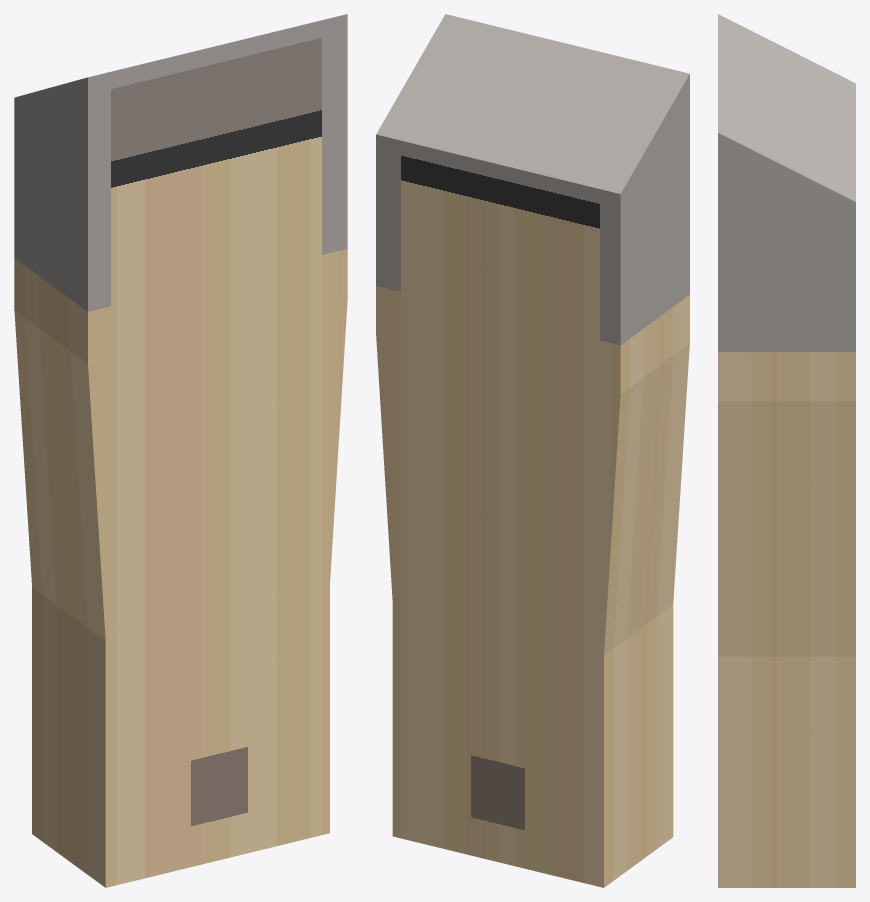
The model's file is 0006_Peeler.glb.
3 renders of one model, left to right at view 1: azimuth 30°, elevation 25°; view 2: azimuth 150°, elevation 25°; view 3: azimuth 270°, elevation 25°, orthographic. The views are drawn at different scales.
Parts seen in each view (by area): view 1: part_0; view 2: part_0; view 3: part_0.
Part boxes in pixels (x1,y1,x2,y2): part_0: [14, 14, 347, 887]; part_0: [376, 14, 689, 887]; part_0: [718, 14, 855, 887].
Bounding box in the file's own units: 0.055 × 0.165 × 0.027.
Materials: 1 (1 with a texture image).
